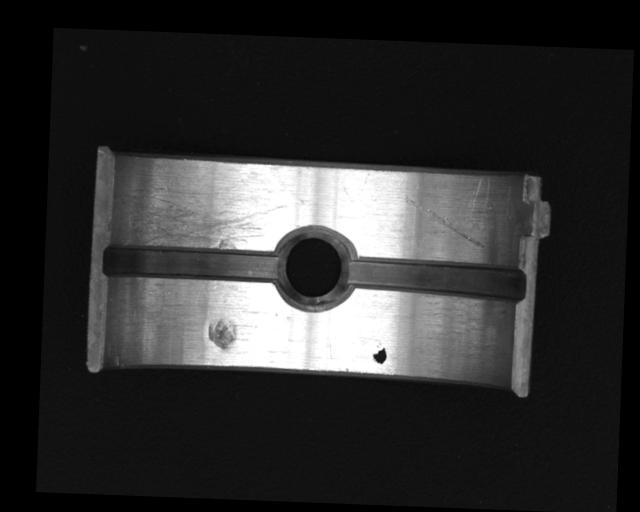blot: (372, 342, 387, 365)
bruise: (207, 317, 240, 350)
gap: (346, 256, 529, 304), (100, 241, 284, 286)
hole: (271, 225, 355, 314)
nick: (402, 195, 487, 250)
scratch: (118, 175, 290, 251)
